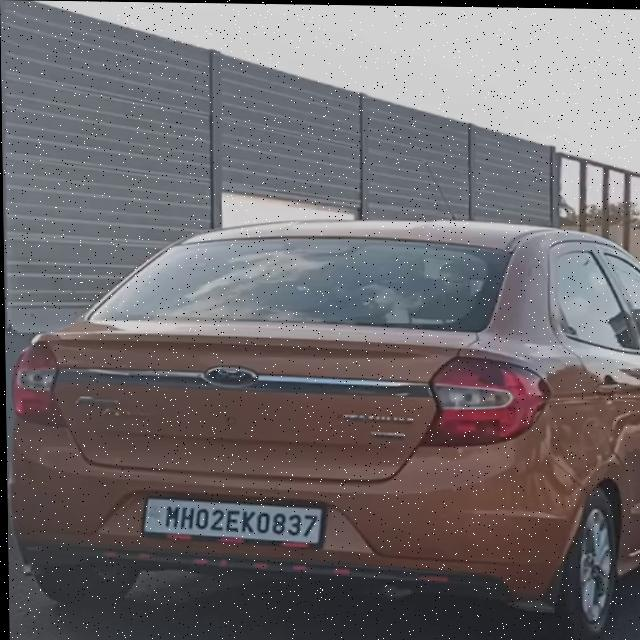plate: (145, 499, 325, 546)
